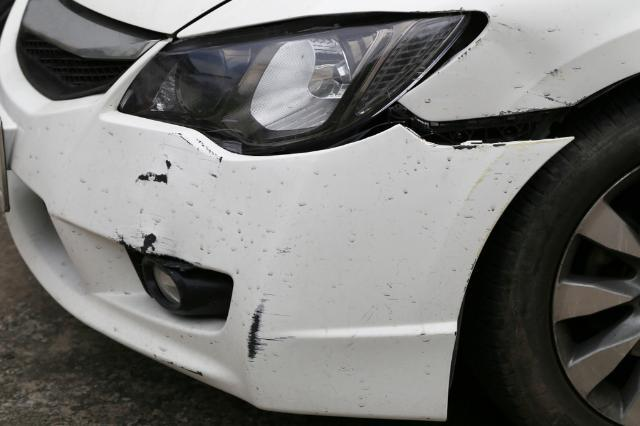dislocated part: (193, 98, 577, 164), (170, 7, 493, 47)
scratch: (110, 132, 226, 259), (483, 19, 588, 117), (453, 142, 550, 209), (245, 289, 297, 367), (153, 353, 204, 378)
